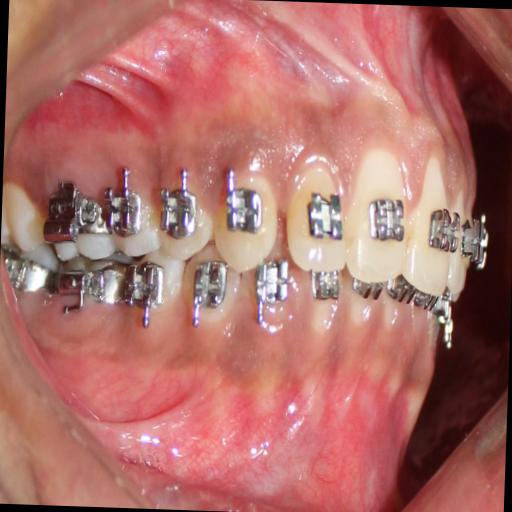correct_brace: (154, 160, 215, 263), (219, 165, 265, 238), (300, 186, 346, 245), (364, 188, 408, 246)
incorrect_brace: (284, 148, 354, 275), (156, 164, 200, 242)
